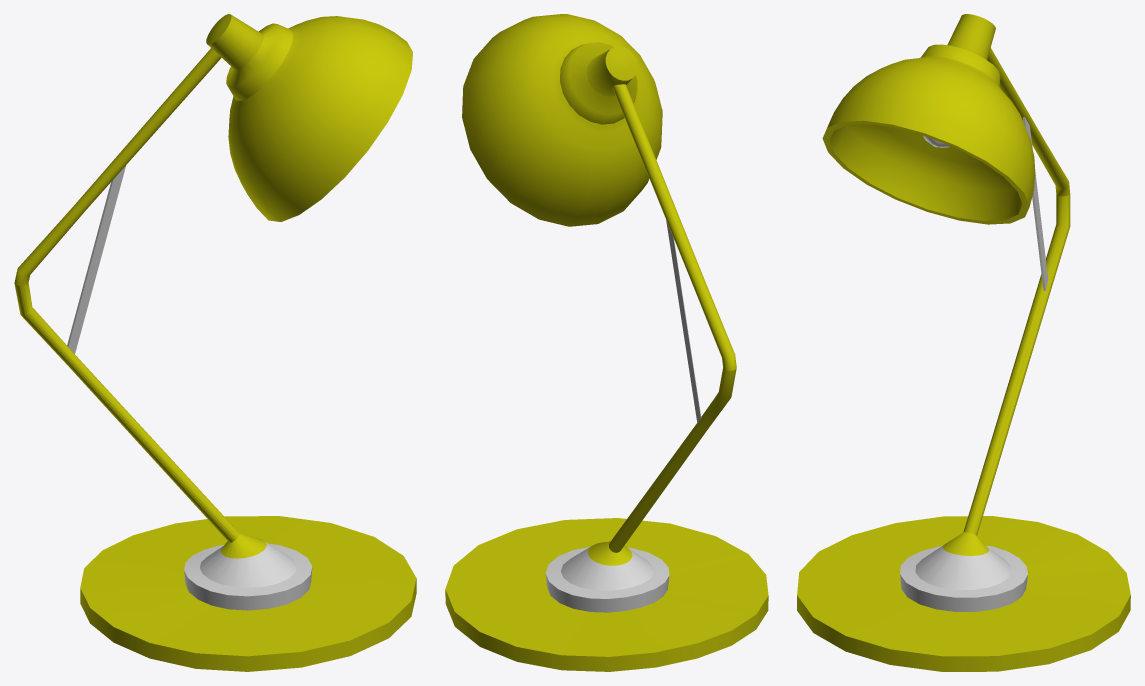
The model's file is Livingroomlamp.gltf.
3 renders of one model, left to right at view 1: azimuth 30°, elevation 25°; view 2: azimuth 150°, elevation 25°; view 3: azimuth 270°, elevation 25°, orthographic. The views are drawn at different scales.
Parts seen in each view (by area): view 1: Big_lamp; view 2: Big_lamp; view 3: Big_lamp.
Part boxes in pixels (<box>): Big_lamp: <box>14,14,416,671</box>; Big_lamp: <box>445,14,768,671</box>; Big_lamp: <box>797,14,1130,671</box>.
Size of the model in its own units: 0.7799 by 1.33 by 0.6899.
